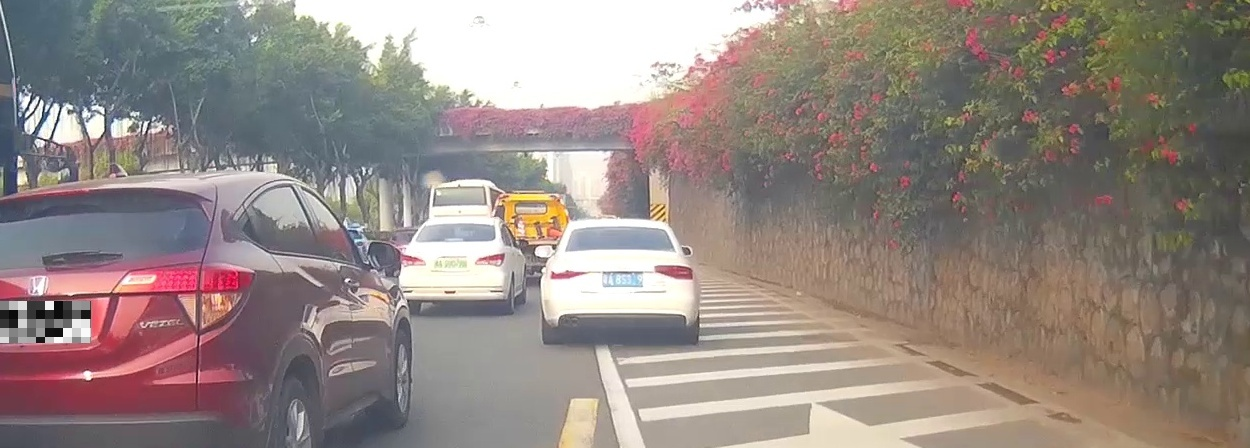L_light: (549, 266, 589, 279), (399, 255, 426, 267)
R_light: (655, 265, 693, 280), (475, 253, 506, 266)
T_light: (607, 226, 631, 232), (445, 236, 463, 242)
day-left: (540, 219, 699, 344)
day-no: (398, 217, 507, 316)
plate_1: (0, 301, 91, 343)
